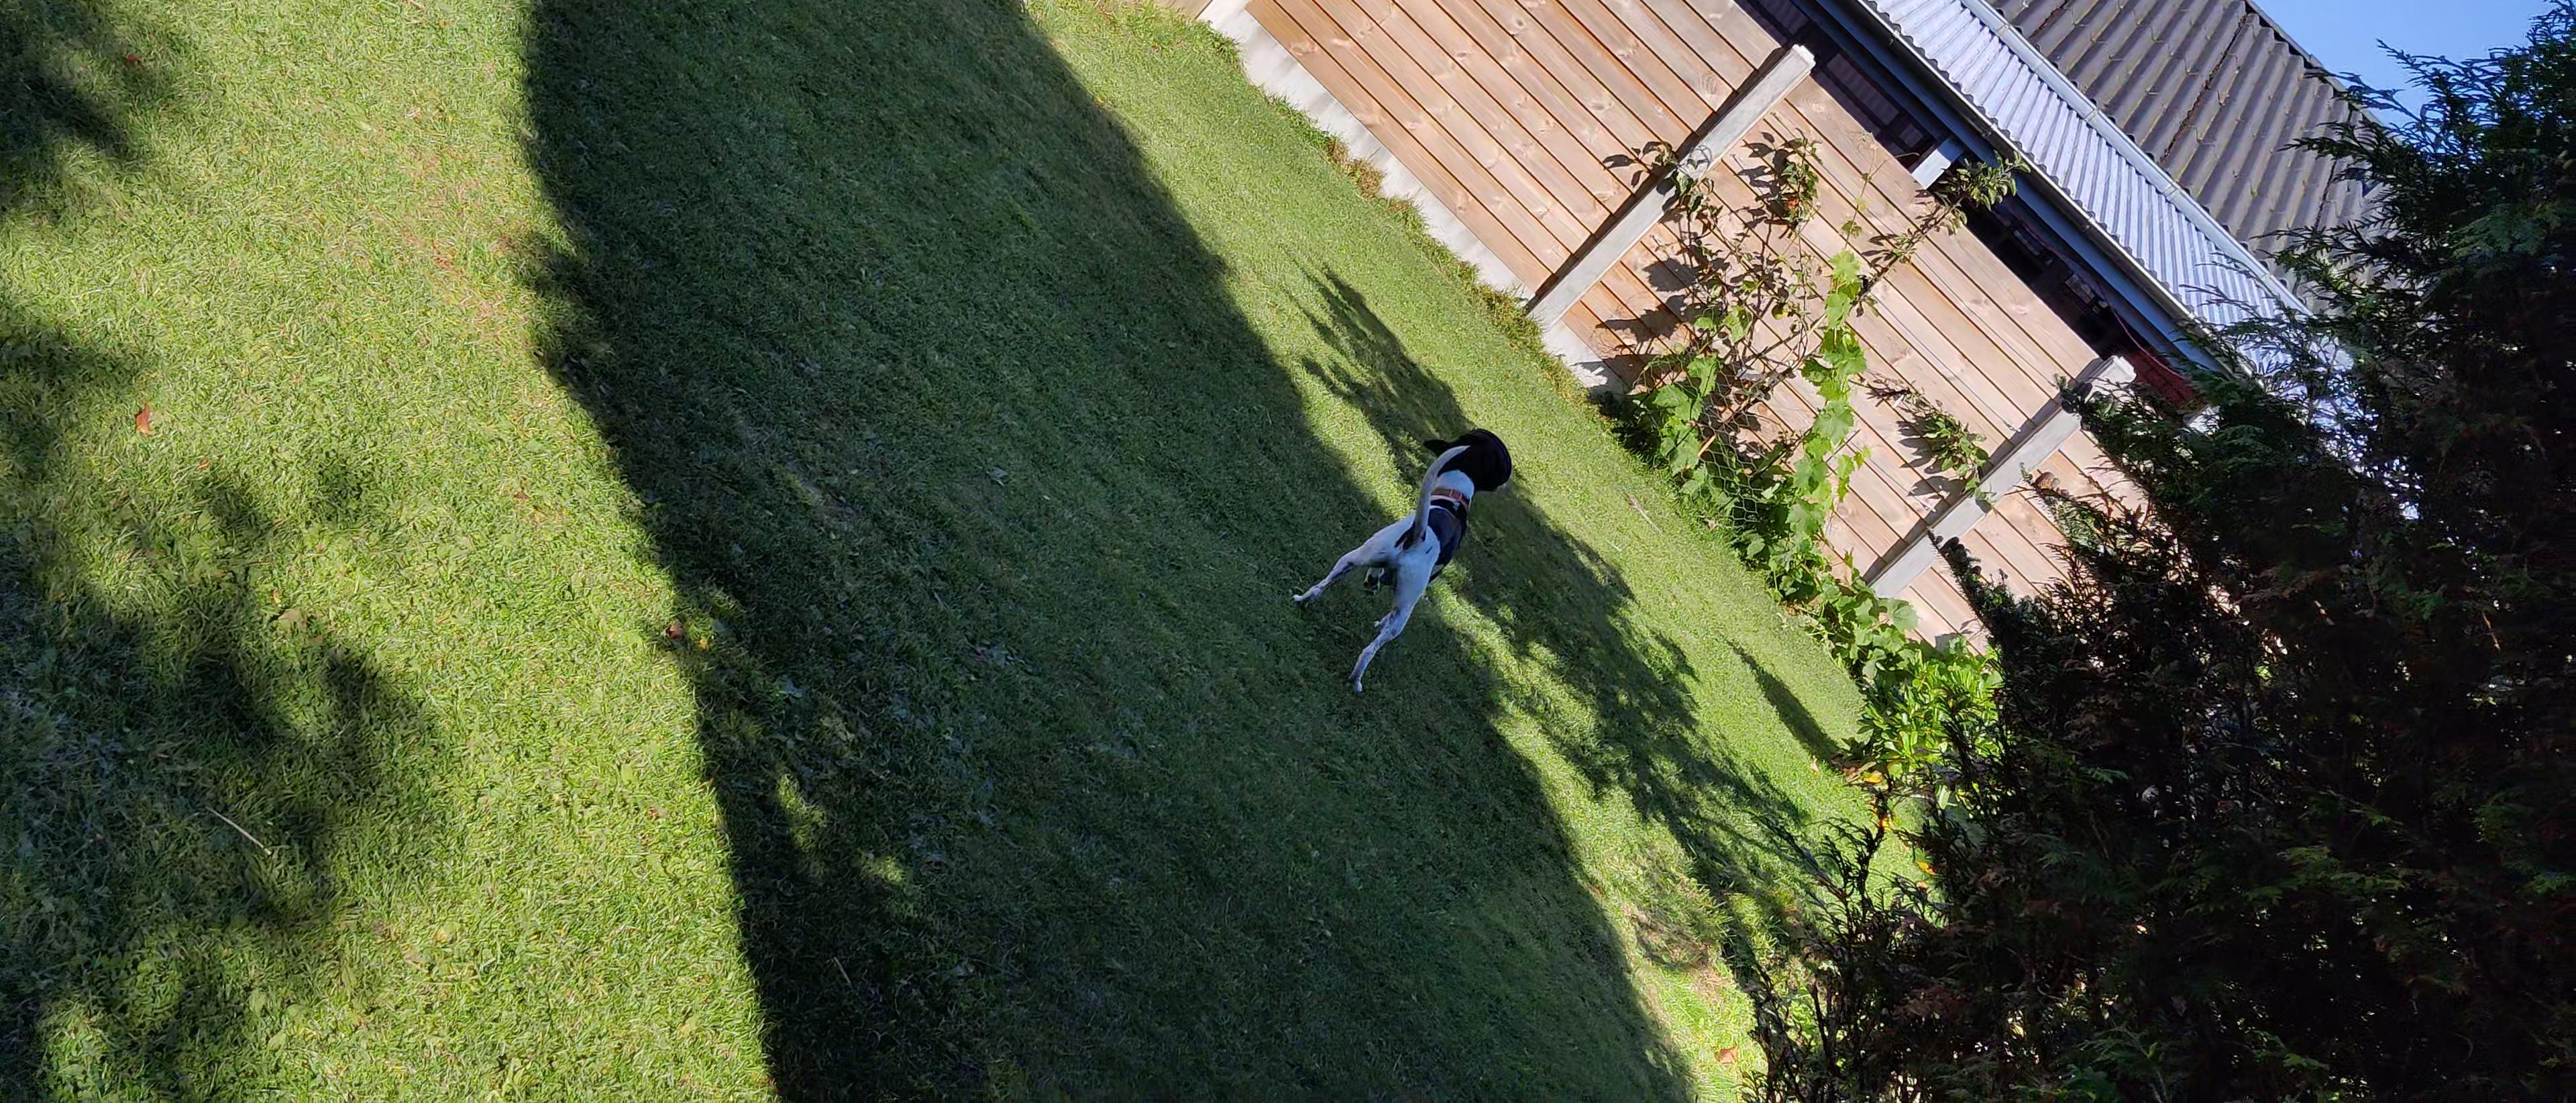Dog: (1283, 426, 1513, 704)
